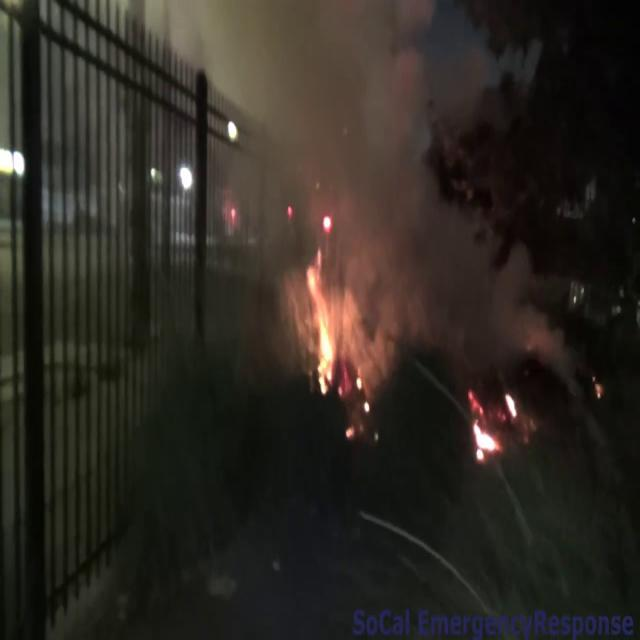Fire: (293, 228, 351, 394), (470, 406, 500, 463)
Smoke: (228, 0, 556, 366)
